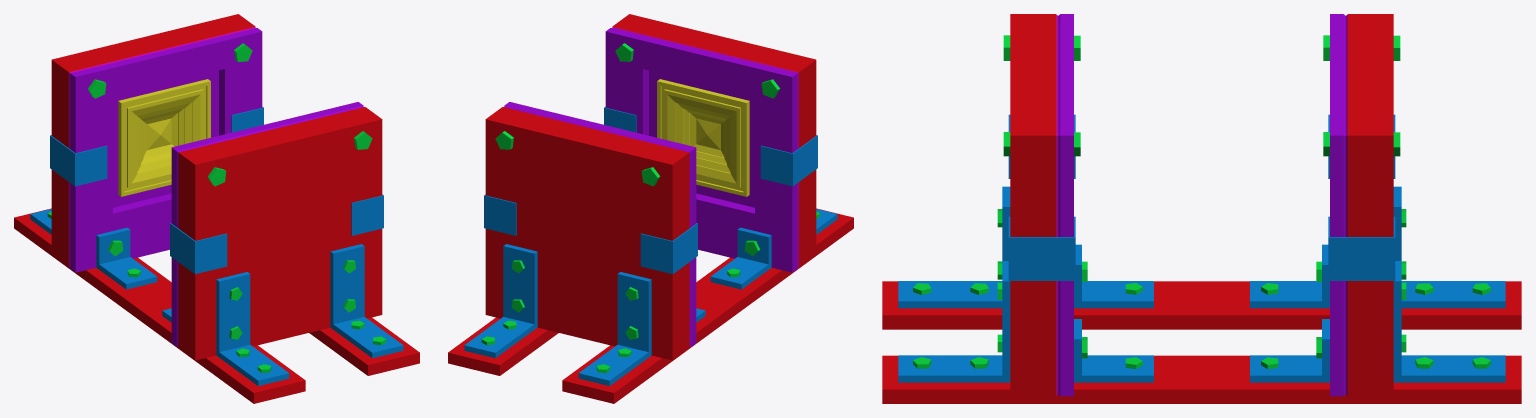
File: cores.fbx
3 renders of one model, left to right at view 1: azimuth 30°, elevation 25°; view 2: azimuth 150°, elevation 25°; view 3: azimuth 270°, elevation 25°, orthographic. The views are drawn at different scales.
Visible parts, largest first — view 1: Cube.004; view 2: Cube.004; view 3: Cube.004.
Boxes of the visible parts, box(x1,y1,x2,y2) form: Cube.004: box(14, 14, 419, 403); Cube.004: box(448, 14, 853, 403); Cube.004: box(882, 14, 1521, 403).
Size of the model in its own units: 45.5 by 47.5 by 100.
